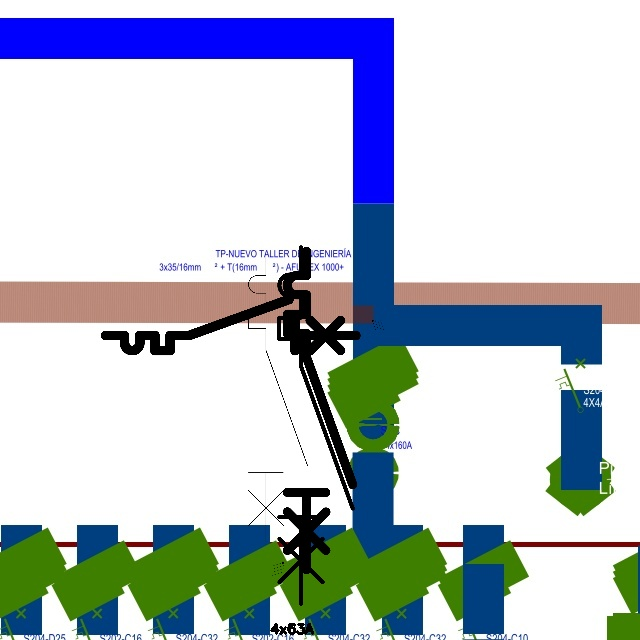interruptor_termomagnetico: (270, 238, 362, 613), (279, 243, 361, 578), (241, 246, 315, 550), (99, 293, 362, 357)
